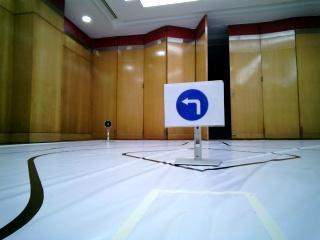left: (163, 86, 223, 127)
